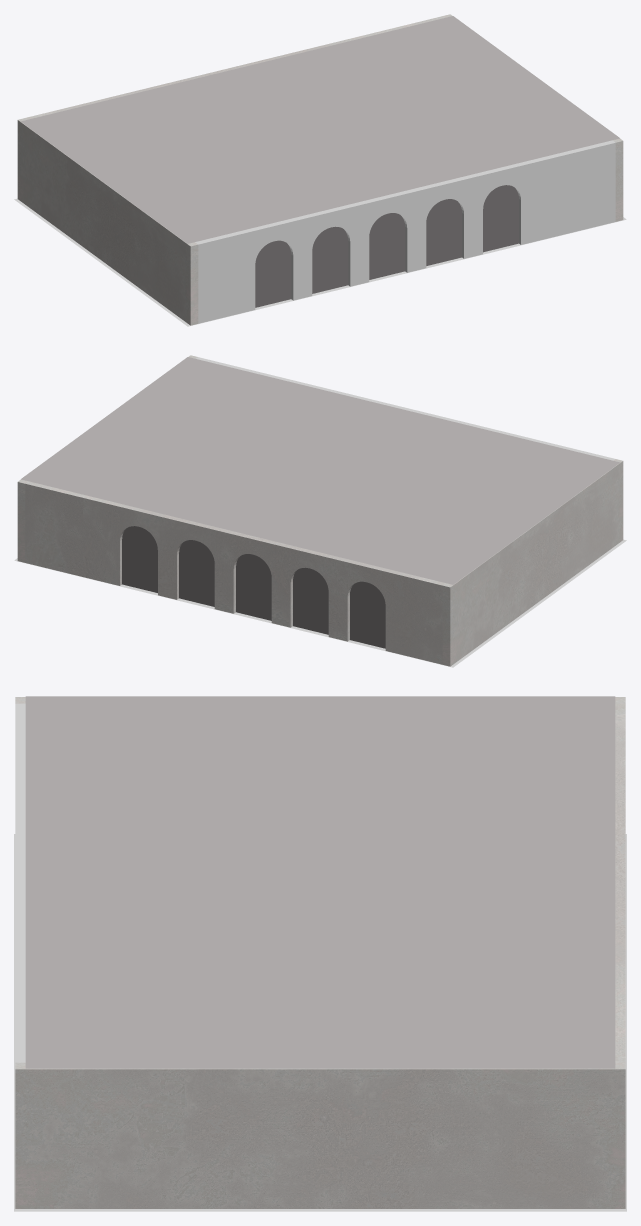
File: room.glb
3 views of the same model, one above another, from view 1: azimuth 30°, elevation 25°; view 2: azimuth 150°, elevation 25°; view 3: azimuth 270°, elevation 25° (orthographic). The views are drawn at different scales.
Visible parts, largest first — view 1: RM_CEILING, WALL_03, WALL_04, GLASS_06, GLASS_07, GLASS_08, GLASS_10, GLASS_09, RM_FLOOR_02, WALL_01, WALL_02; view 2: RM_CEILING, WALL_01, WALL_04, GLASS_01, GLASS_05, GLASS_02, GLASS_03, GLASS_04, RM_FLOOR_02, WALL_03, WALL_02; view 3: RM_CEILING, WALL_02, WALL_01, WALL_03, RM_FLOOR_02.
Part boxes in pixels (box(x1,y1,x2,y2)): RM_CEILING: box(20, 16, 619, 243); WALL_03: box(195, 140, 615, 323); WALL_04: box(17, 118, 198, 325); GLASS_06: box(255, 240, 291, 307); GLASS_07: box(312, 226, 348, 293); GLASS_08: box(369, 213, 405, 279); GLASS_10: box(483, 185, 518, 252); GLASS_09: box(426, 199, 461, 265); RM_FLOOR_02: box(14, 198, 626, 326); WALL_01: box(25, 16, 444, 119); WALL_02: box(443, 14, 623, 221); RM_CEILING: box(21, 357, 620, 584); WALL_01: box(25, 481, 445, 664); WALL_04: box(442, 459, 623, 666); GLASS_01: box(350, 581, 385, 648); GLASS_05: box(122, 526, 157, 592); GLASS_02: box(293, 567, 328, 634); GLASS_03: box(236, 554, 271, 620); GLASS_04: box(179, 540, 214, 606); RM_FLOOR_02: box(14, 539, 626, 667); WALL_03: box(196, 357, 615, 460); WALL_02: box(17, 355, 197, 562); RM_CEILING: box(25, 696, 615, 1068); WALL_02: box(15, 1062, 625, 1208); WALL_01: box(615, 703, 625, 1062); WALL_03: box(15, 703, 25, 1062); RM_FLOOR_02: box(14, 834, 626, 1211).
Size of what is drawn, in the model's own units: 23.13 by 4.04 by 15.86.
Materials: 9 (2 with a texture image).
